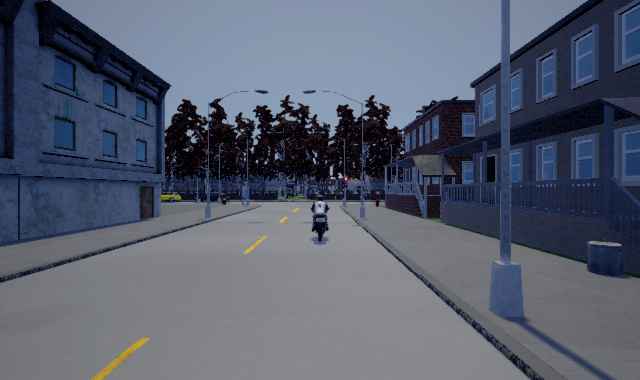motobike: (310, 196, 332, 242)
traffic_light: (342, 178, 347, 186)
vehicle: (159, 191, 183, 203)
